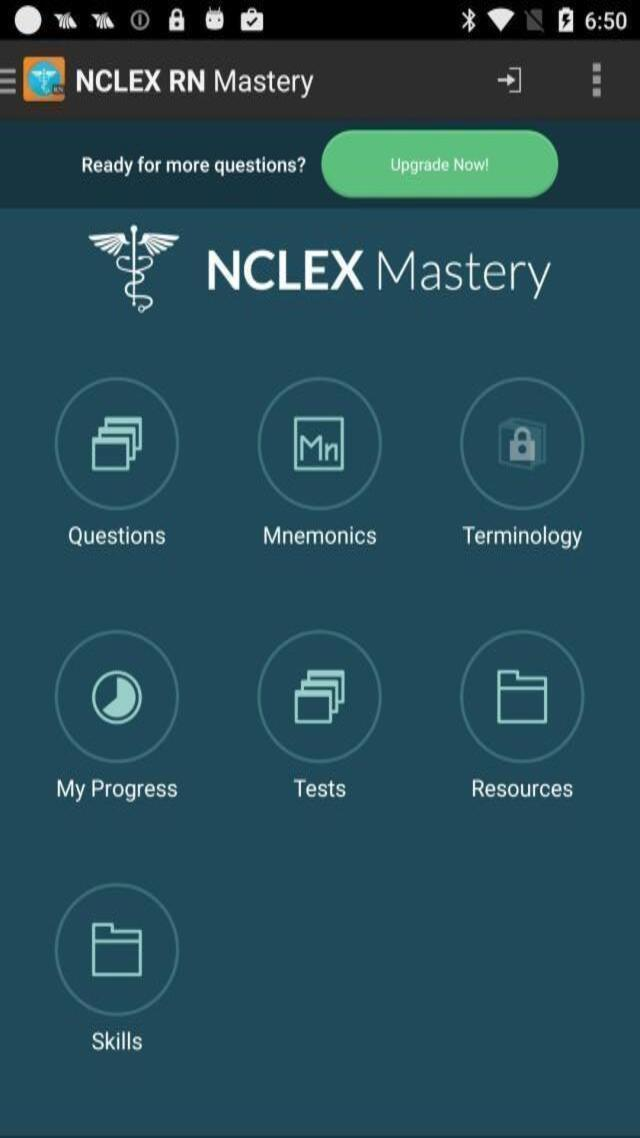Icon: (25, 54, 69, 102), (494, 61, 522, 96), (486, 3, 517, 33), (16, 0, 44, 33), (236, 5, 267, 32), (53, 5, 80, 32), (126, 7, 152, 34), (590, 57, 606, 100), (556, 5, 576, 36), (203, 7, 226, 32), (91, 9, 117, 31), (166, 7, 187, 34), (461, 7, 478, 36)
Image: (196, 240, 558, 305), (80, 222, 184, 318)
Text: (69, 64, 317, 102), (78, 154, 311, 179), (54, 774, 179, 804), (460, 524, 586, 552), (258, 523, 380, 549), (467, 775, 578, 801), (62, 524, 170, 550), (86, 1026, 146, 1056), (292, 775, 348, 804)
TextButton: (246, 373, 391, 564), (248, 628, 390, 817), (48, 880, 186, 1072), (452, 628, 592, 815), (46, 628, 184, 816), (454, 374, 590, 561), (53, 375, 182, 561), (320, 130, 558, 200), (0, 64, 19, 102)
